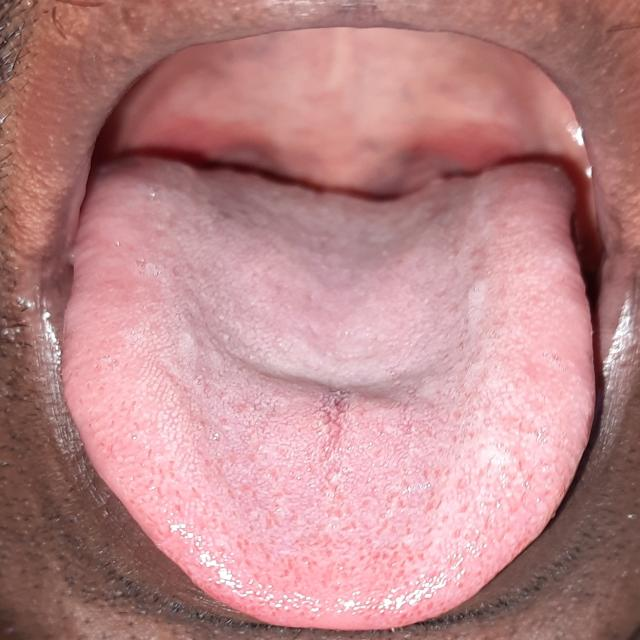No Cancer: (189, 82, 538, 268)
